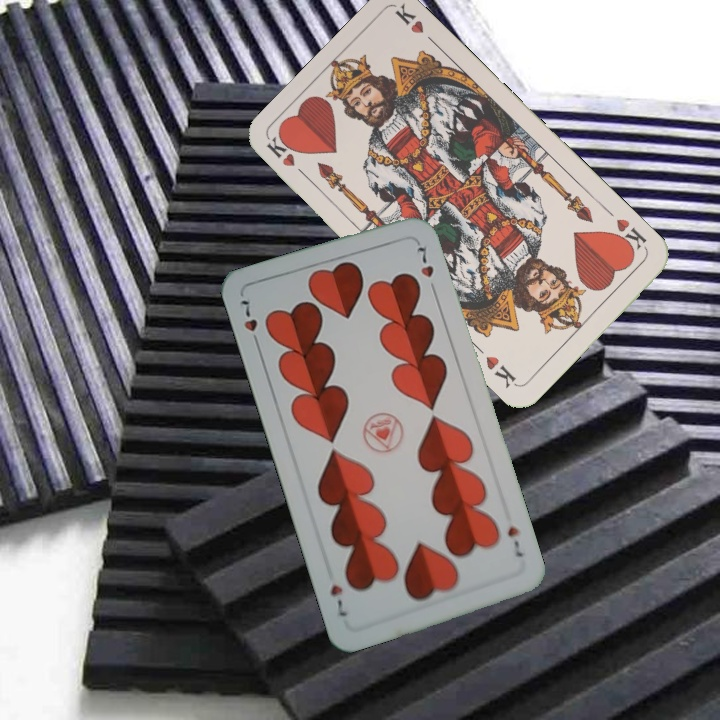H7: (236, 296, 263, 351), (503, 522, 526, 560)
HK: (263, 133, 312, 183), (608, 214, 649, 257)
